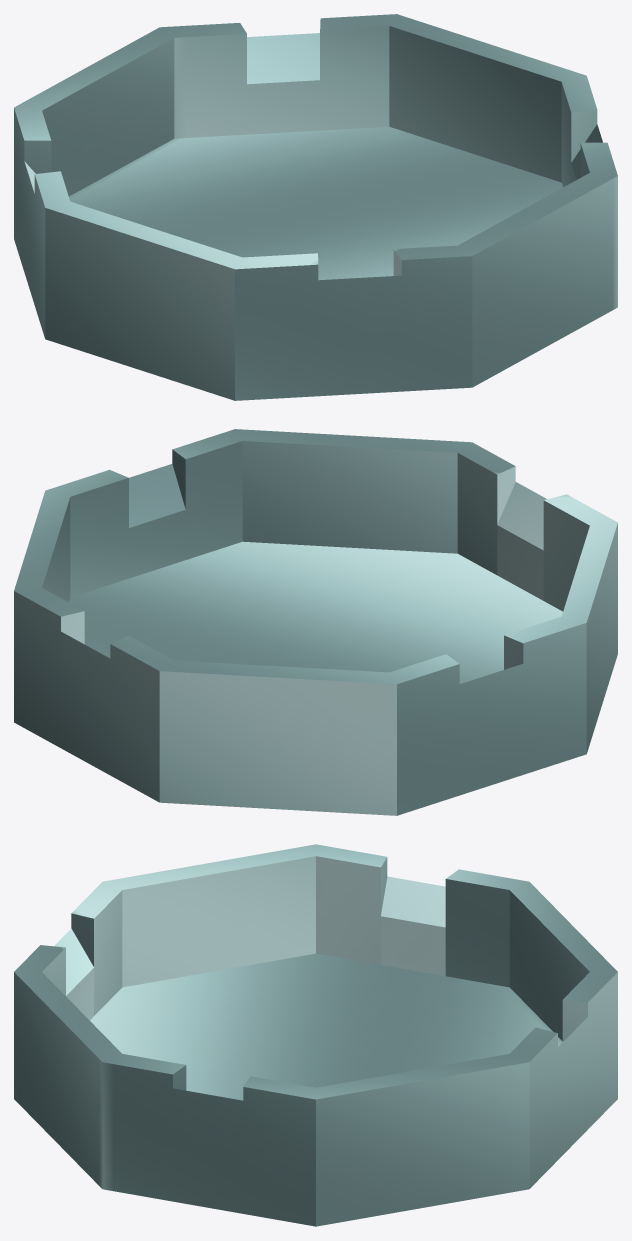
The model's file is ashtray.fbx.
3 renders of one model, top to bottom at view 1: azimuth 30°, elevation 25°; view 2: azimuth 150°, elevation 25°; view 3: azimuth 270°, elevation 25°, orthographic. The views are drawn at different scales.
Parts seen in each view (by area): view 1: Cylinder; view 2: Cylinder; view 3: Cylinder.
Boxes of the visible parts, <box> form: Cylinder: <box>14,14,617,400</box>; Cylinder: <box>14,429,617,815</box>; Cylinder: <box>14,844,617,1226</box>.
Size of the model in its own units: 4.12 by 0.9559 by 4.12.
Materials: 1 (1 with a texture image).
